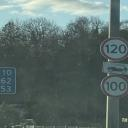speed_limit_100: (99, 74, 128, 98)
speed_limit_120: (99, 35, 128, 62)
